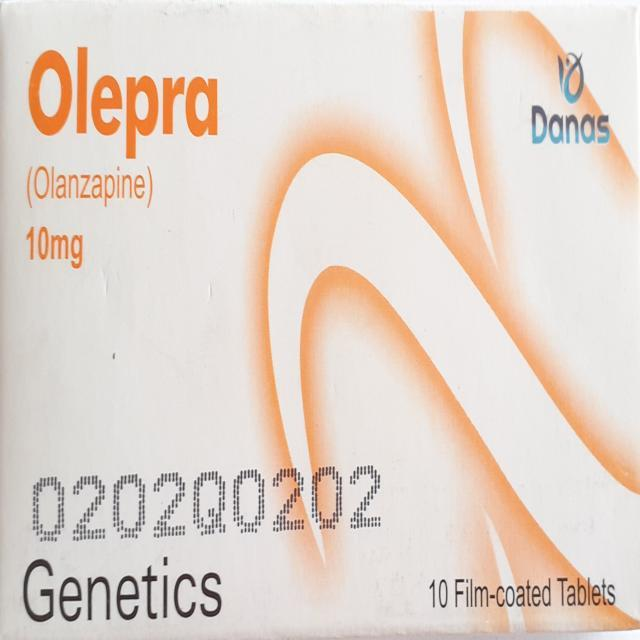drug-name: (19, 45, 220, 157)
